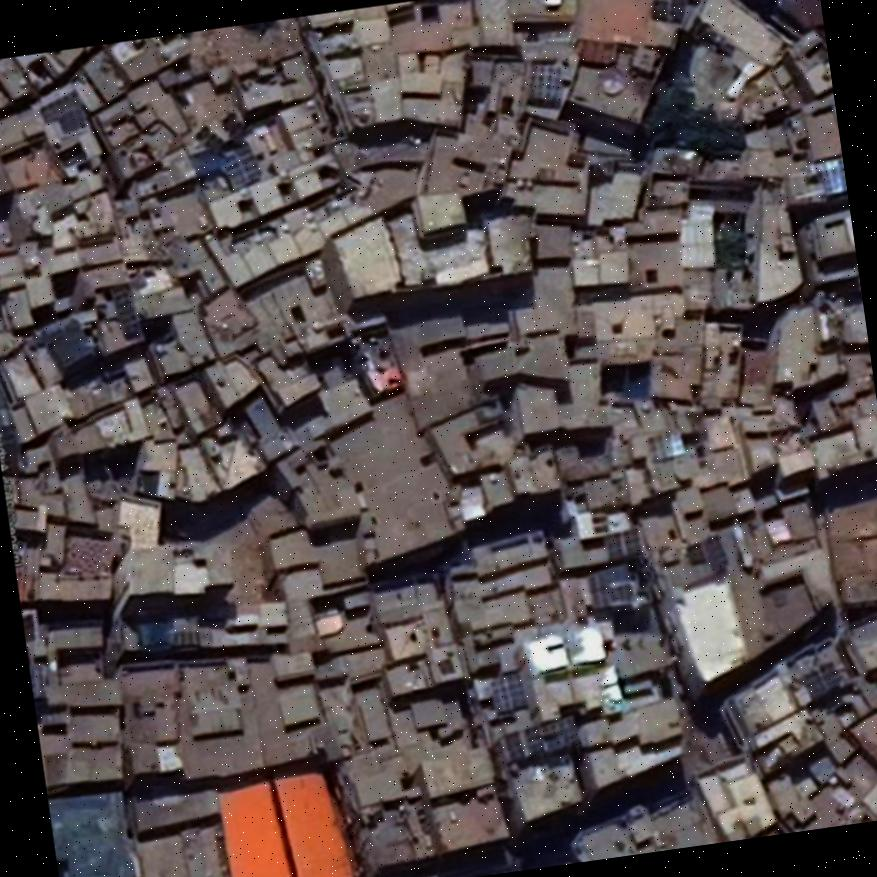Solarpanel: (219, 141, 262, 190), (524, 717, 575, 758), (806, 661, 846, 698), (488, 670, 524, 711), (527, 62, 561, 100), (605, 525, 641, 560), (702, 534, 726, 569)
